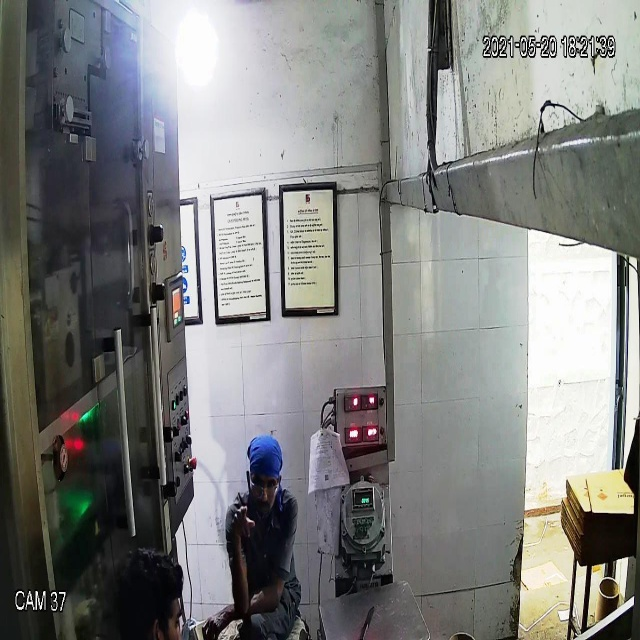Gafas: (246, 471, 282, 502)
